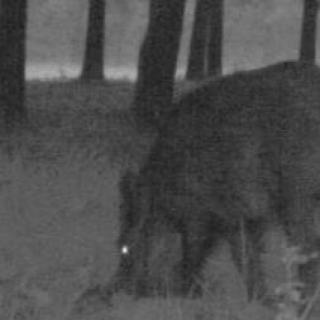Pig: (106, 47, 320, 312)
